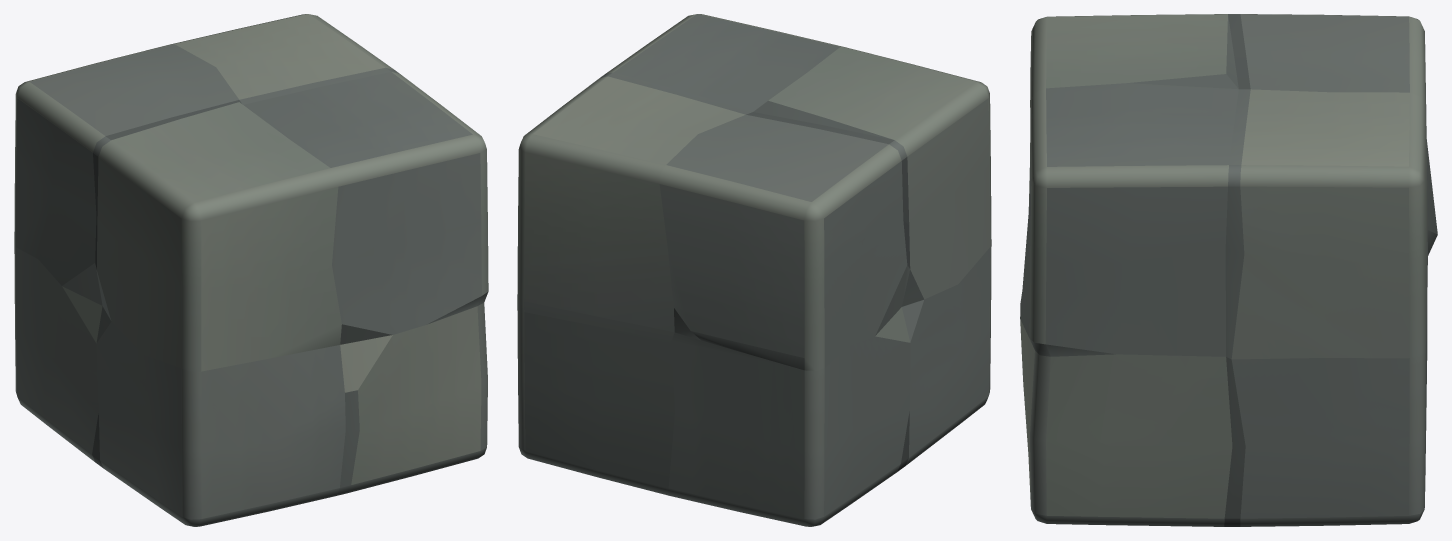
The model's file is tavern_cellar_wall.fbx.
3 renders of one model, left to right at view 1: azimuth 30°, elevation 25°; view 2: azimuth 150°, elevation 25°; view 3: azimuth 270°, elevation 25°, orthographic. The views are drawn at different scales.
Visible parts, largest first — view 1: tavern_cellar_wall_LOD0; view 2: tavern_cellar_wall_LOD0; view 3: tavern_cellar_wall_LOD0.
Part boxes in pixels (x1,y1,x2,y2): tavern_cellar_wall_LOD0: (14, 14, 488, 526); tavern_cellar_wall_LOD0: (517, 14, 991, 526); tavern_cellar_wall_LOD0: (1020, 14, 1437, 526).
Size of what is drawn, in the model's own units: 101 by 106 by 106.
